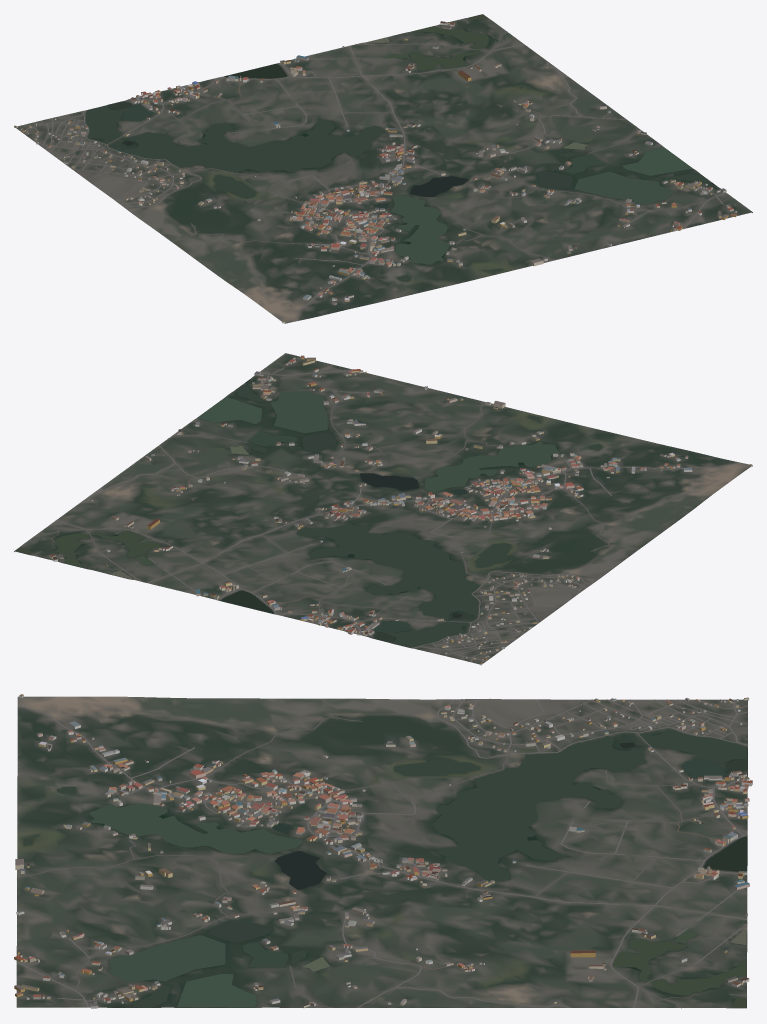
3 renders of one model, top to bottom at view 1: azimuth 30°, elevation 25°; view 2: azimuth 150°, elevation 25°; view 3: azimuth 270°, elevation 25°, orthographic. The views are drawn at different scales.
Parts seen in each view (by area): view 1: ground, water, buildings, roads; view 2: ground, water, buildings, roads; view 3: ground, water, buildings, roads.
Boxes of the visible parts, bbox=[...] form: ground: bbox=[16, 14, 752, 323]; water: bbox=[85, 14, 716, 281]; buildings: bbox=[14, 21, 737, 323]; roads: bbox=[19, 18, 726, 321]; ground: bbox=[14, 353, 750, 664]; water: bbox=[15, 379, 602, 647]; buildings: bbox=[49, 355, 752, 665]; roads: bbox=[31, 367, 740, 662]; ground: bbox=[16, 696, 748, 1008]; water: bbox=[23, 729, 747, 1007]; buildings: bbox=[14, 694, 752, 1008]; roads: bbox=[16, 698, 747, 1008].
Size of the model in its own units: 1407 by 16.52 by 1418.
